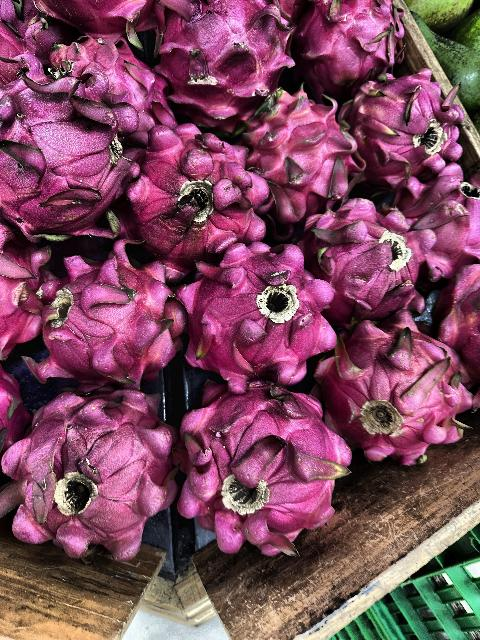buah-naga-matang: (171, 382, 359, 558), (1, 386, 174, 564), (0, 65, 138, 258), (172, 236, 340, 390), (304, 326, 480, 460), (305, 192, 439, 336), (57, 235, 179, 393), (136, 121, 268, 263), (234, 88, 364, 224), (338, 70, 470, 190), (157, 2, 287, 118), (299, 4, 409, 90)
